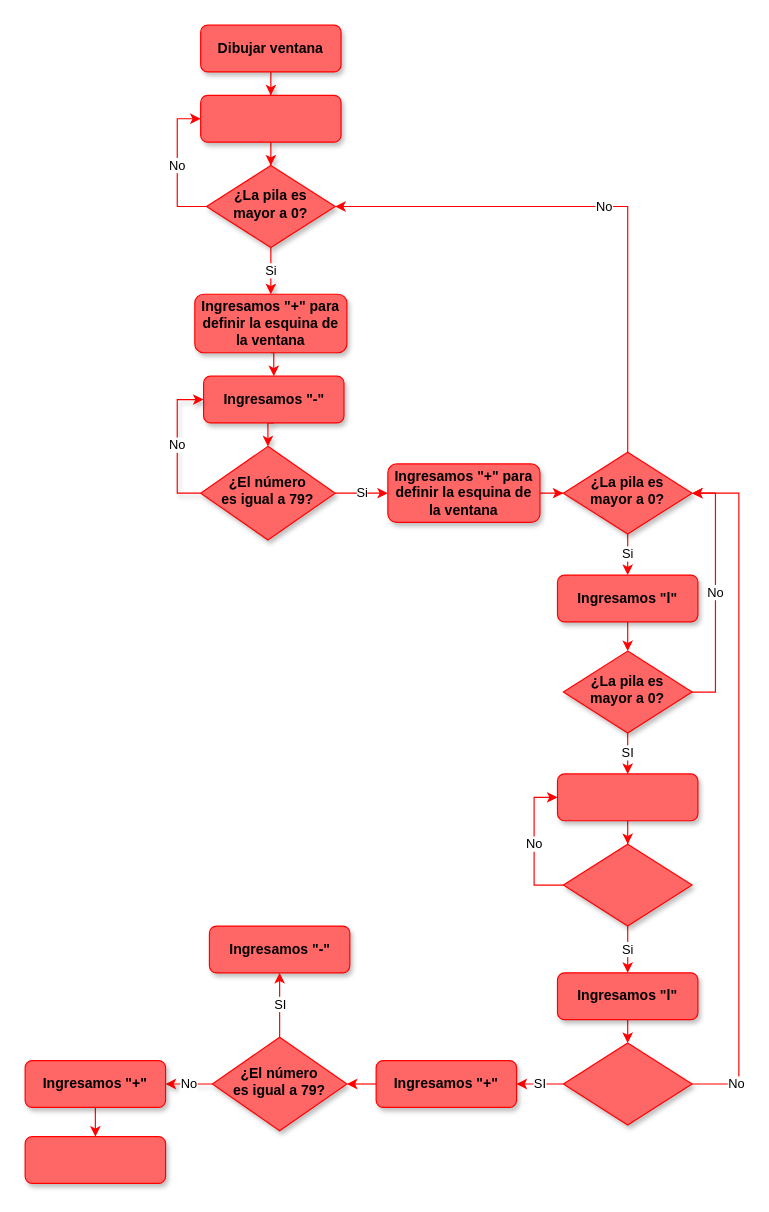
The diagram is 769 pixels wide and 1212 high, and some of its shapes have lost their labels. Each missing label, with the centre of its shape:
FIN: pixel 96 1161
Ingresamos " " (espacios): pixel 628 798
Ingresamos el 10 (alto) y el 80 (ancho): pixel 271 120
¿La pila es igual a 79?: pixel 628 886
¿La pila es igual a 9?: pixel 628 1085
